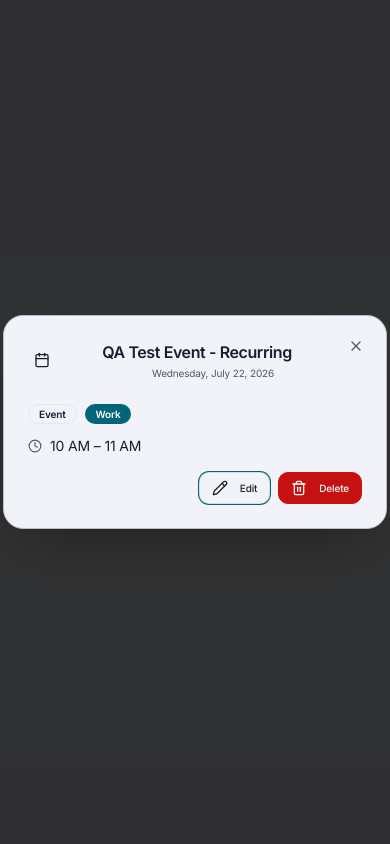
calendar event detail actions › Delete only opens a confirmation — it does not delete on the first click
What coordinates should you click on to do the following:
click the button with test id "btn-delete-event-detail"
I would click on:
 (320, 488)
Its box is left=278, top=472, right=362, bottom=504.
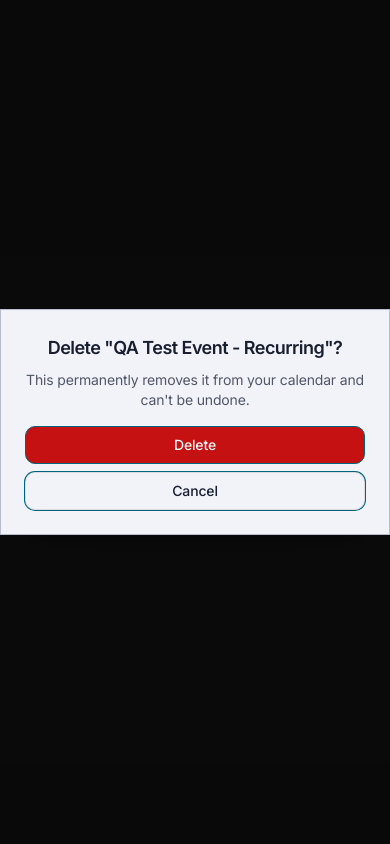
Now the dialog with test id "dialog-confirm-delete-event" is shown, box left=0, top=309, right=389, bottom=535
